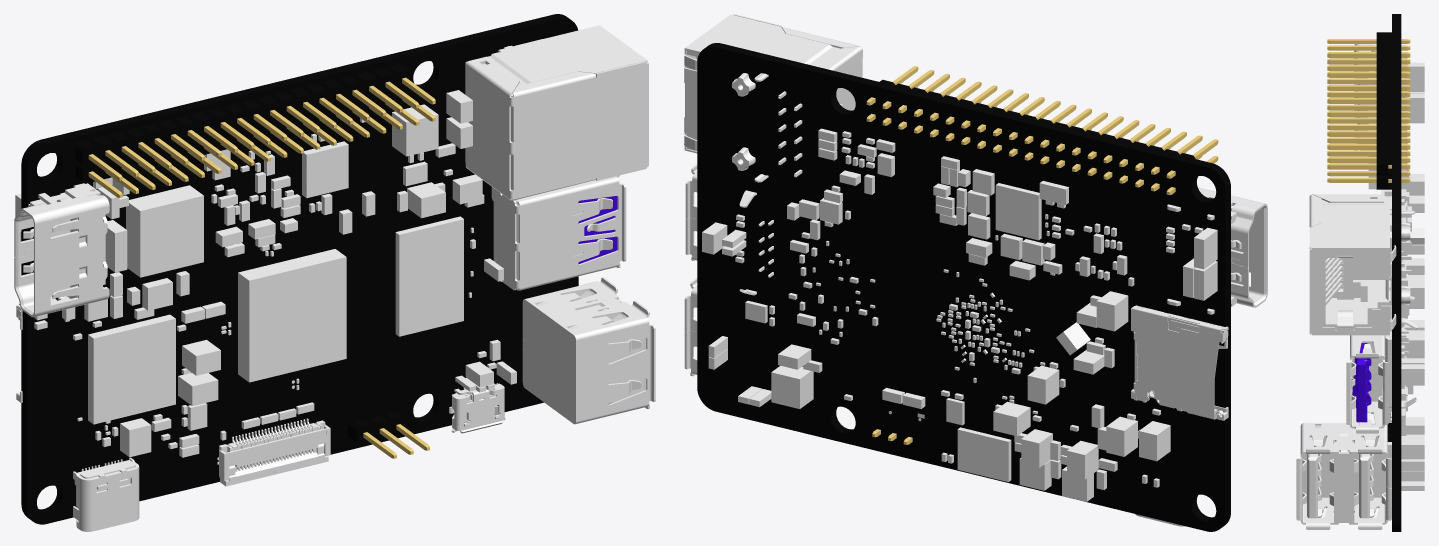
The model's file is RDK3.gltf.
3 renders of one model, left to right at view 1: azimuth 30°, elevation 25°; view 2: azimuth 150°, elevation 25°; view 3: azimuth 270°, elevation 25°, orthographic. The views are drawn at different scales.
Visible parts, largest first — view 1: BOARD_OUTLINE, Íø¿Ú-v0.4, ÅÅÕë-20, 484090003, X2A, 484050001, ·Ö¸î1, LGA44, FBGA200_80P_150X100X90, LT8618EX_QFN64_EPAD, 24p_afc01-s24f, 1054500101 (+11 smaller); view 2: BOARD_OUTLINE, É¾³ýÃæ4, Íø¿Ú-v0.4, ÅÅÕë-20, ·Ö¸î1, LGA8_127P_800X600X80, QFN48_600X600X85_P40, WQFN24, 484050001, AP3407_3, 484090003, AP3407_2 (+9 smaller); view 3: Íø¿Ú-v0.4, ÅÅÕë-20, 484090003, BOARD_OUTLINE, 484050001, WQFN24, RCLAMP0524P_3, SOT23-5_3, SOD-123_2, SOD-123_3, SOT23-5, L0603 (+11 smaller).
Boxes of the visible parts, x1,y1,x2,y2 form: BOARD_OUTLINE: (21, 14, 578, 524); Íø¿Ú-v0.4: (465, 25, 648, 200); ÅÅÕë-20: (73, 63, 435, 197); 484090003: (522, 277, 655, 424); X2A: (238, 249, 346, 382); 484050001: (491, 175, 626, 290); ·Ö¸î1: (14, 183, 109, 317); LGA44: (88, 314, 175, 424); FBGA200_80P_150X100X90: (395, 216, 463, 336); LT8618EX_QFN64_EPAD: (126, 185, 203, 277); 24p_afc01-s24f: (217, 418, 330, 486); 1054500101: (73, 457, 139, 531); BOARD_OUTLINE: (697, 43, 1230, 531); É¾³ýÃæ4: (1131, 305, 1228, 420); Íø¿Ú-v0.4: (684, 14, 862, 182); ÅÅÕë-20: (866, 66, 1218, 195); ·Ö¸î1: (1167, 187, 1267, 314); LGA8_127P_800X600X80: (957, 427, 1011, 481); QFN48_600X600X85_P40: (995, 183, 1041, 240); WQFN24: (771, 365, 813, 408); 484050001: (685, 164, 773, 295); AP3407_3: (1096, 291, 1128, 331); 484090003: (684, 277, 697, 376); AP3407_2: (1139, 421, 1170, 461); Íø¿Ú-v0.4: (1309, 194, 1414, 335); ÅÅÕë-20: (1327, 32, 1410, 189); 484090003: (1296, 423, 1391, 529); BOARD_OUTLINE: (1392, 14, 1401, 531); 484050001: (1346, 318, 1417, 433); WQFN24: (1401, 434, 1424, 459); RCLAMP0524P_3: (1401, 364, 1424, 385); SOT23-5_3: (1404, 330, 1424, 356); SOD-123_2: (1401, 62, 1424, 91); SOD-123_3: (1401, 94, 1424, 123); SOT23-5: (1408, 280, 1424, 308); L0603: (1401, 417, 1424, 434).
Bounding box in the file's own units: 9.04 × 5.71 × 2.09.
